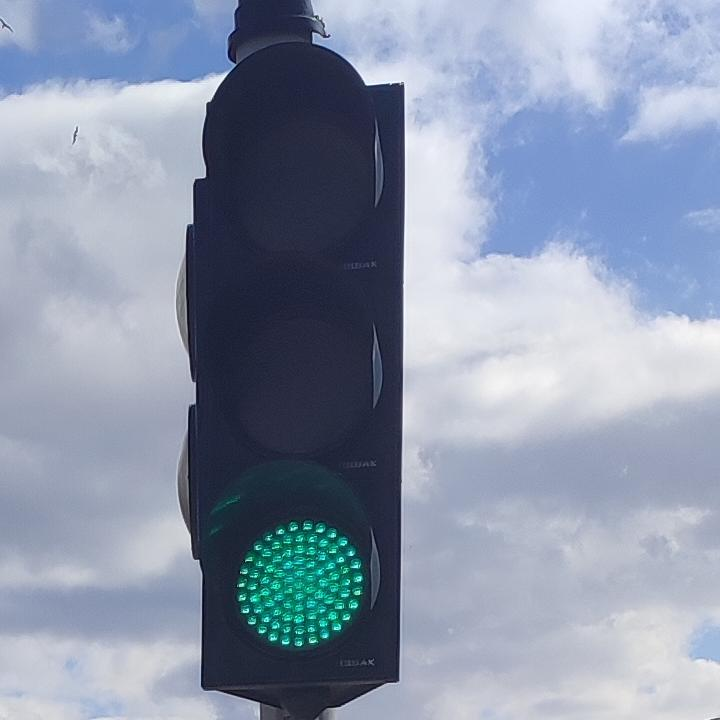green: (184, 28, 414, 720)
